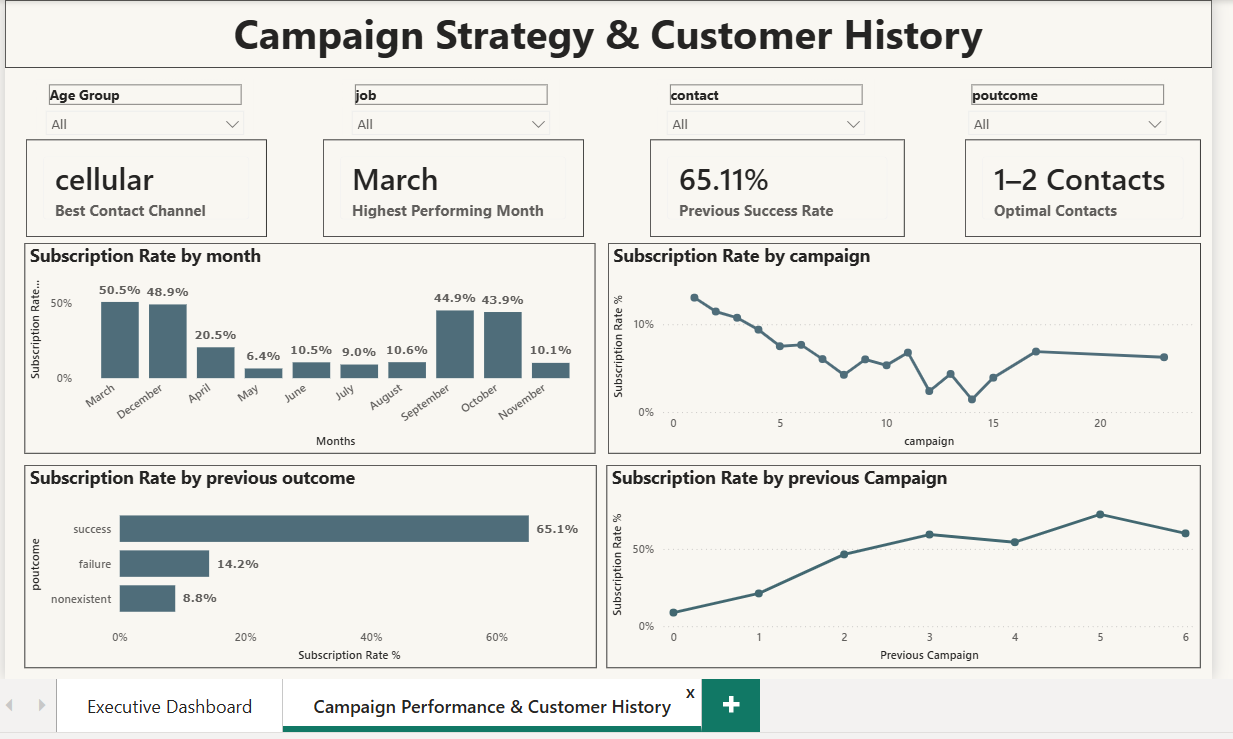

The dashboard page shown, as its layout file describes it:
{"tool":"powerbi","page":{"name":"Campaign Performance & Customer History","canvas":[1280,720],"ordinal":1},"visuals":[{"type":"textbox","box":[0,0,1280,71.7],"z":0},{"type":"cardVisual","fields":{"Data":["Measures (2).Best Contact Channel"]},"box":[21.7,148.3,255,103.3],"z":1000},{"type":"cardVisual","fields":{"Data":["Measures (2).Best Contact Month"]},"box":[336.7,148.3,276.7,103.3],"z":2000},{"type":"cardVisual","fields":{"Data":["Measures (2).Previous Success Rate"]},"box":[683.3,148.3,270,103.3],"z":3000},{"type":"cardVisual","fields":{"Data":["Measures (2).Optimal Contacts"]},"box":[1018.3,148.3,250,103.3],"z":4000},{"type":"clusteredColumnChart","title":"Subscription Rate by month","fields":{"Y":["Measures (2).Subscription Rate %"],"Category":["bank_marketing_clean.Month Name"]},"box":[20,258.3,605,223.3],"z":5000},{"type":"lineChart","title":"Subscription Rate by campaign","fields":{"Category":["bank_marketing_clean.campaign"],"Y":["Measures (2).Subscription Rate %"]},"box":[640,258.3,628.3,223.3],"z":6000},{"type":"clusteredBarChart","title":"Subscription Rate by previous outcome","fields":{"Category":["bank_marketing_clean.poutcome"],"Y":["Measures (2).Subscription Rate %"]},"box":[20,493.3,606.7,215],"z":7000},{"type":"lineChart","title":"Subscription Rate by previous Campaign","fields":{"Category":["bank_marketing_clean.previous"],"Y":["Measures (2).Subscription Rate %"]},"box":[638.3,493.3,630,215],"z":8000},{"type":"slicer","fields":{"Values":["bank_marketing_clean.Age Group"]},"box":[33.3,85,230,58.3],"z":9000},{"type":"slicer","fields":{"Values":["bank_marketing_clean.contact"]},"box":[691.7,85,230,58.3],"z":10000},{"type":"slicer","fields":{"Values":["bank_marketing_clean.poutcome"]},"box":[1011.7,85,230,58.3],"z":11000},{"type":"slicer","fields":{"Values":["bank_marketing_clean.job"]},"box":[358.3,85,230,58.3],"z":12000}]}

Visuals, with their boxes in screenshot pixels (x1, y1, x2, y2):
textbox: x1=0 y1=0 x2=1216 y2=65
cardVisual - Measures (2).Best Contact Channel: x1=21 y1=138 x2=263 y2=236
cardVisual - Measures (2).Best Contact Month: x1=320 y1=138 x2=583 y2=236
cardVisual - Measures (2).Previous Success Rate: x1=649 y1=138 x2=906 y2=236
cardVisual - Measures (2).Optimal Contacts: x1=967 y1=138 x2=1205 y2=236
"Subscription Rate by month" clusteredColumnChart: x1=19 y1=242 x2=594 y2=454
"Subscription Rate by campaign" lineChart: x1=608 y1=242 x2=1205 y2=454
"Subscription Rate by previous outcome" clusteredBarChart: x1=19 y1=465 x2=595 y2=670
"Subscription Rate by previous Campaign" lineChart: x1=606 y1=465 x2=1205 y2=670
slicer - bank_marketing_clean.Age Group: x1=32 y1=78 x2=250 y2=133
slicer - bank_marketing_clean.contact: x1=657 y1=78 x2=876 y2=133
slicer - bank_marketing_clean.poutcome: x1=961 y1=78 x2=1180 y2=133
slicer - bank_marketing_clean.job: x1=340 y1=78 x2=559 y2=133
